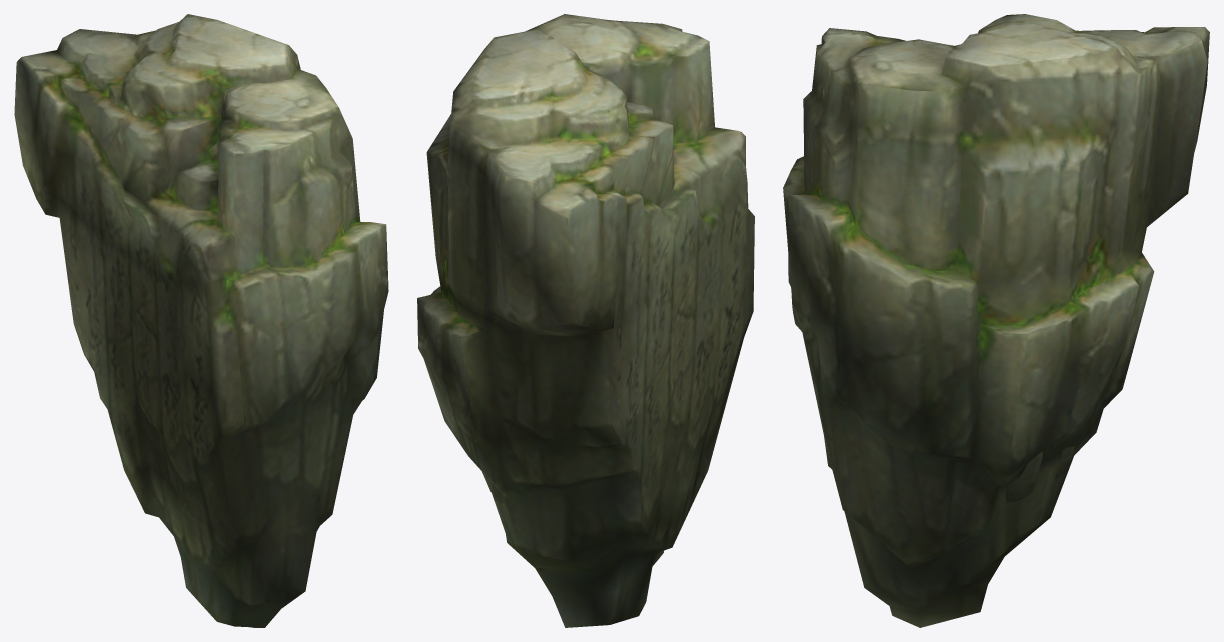
File: S_Rock_Green050.FBX
3 renders of one model, left to right at view 1: azimuth 30°, elevation 25°; view 2: azimuth 150°, elevation 25°; view 3: azimuth 270°, elevation 25°, orthographic. The views are drawn at different scales.
Parts seen in each view (by area): view 1: S_Rock_Green050; view 2: S_Rock_Green050; view 3: S_Rock_Green050.
Boxes of the visible parts, x1,y1,x2,y2 form: S_Rock_Green050: [14, 14, 388, 627]; S_Rock_Green050: [417, 14, 754, 627]; S_Rock_Green050: [783, 14, 1209, 627].
Bounding box in the file's own units: 1098 × 2506 × 1630.
